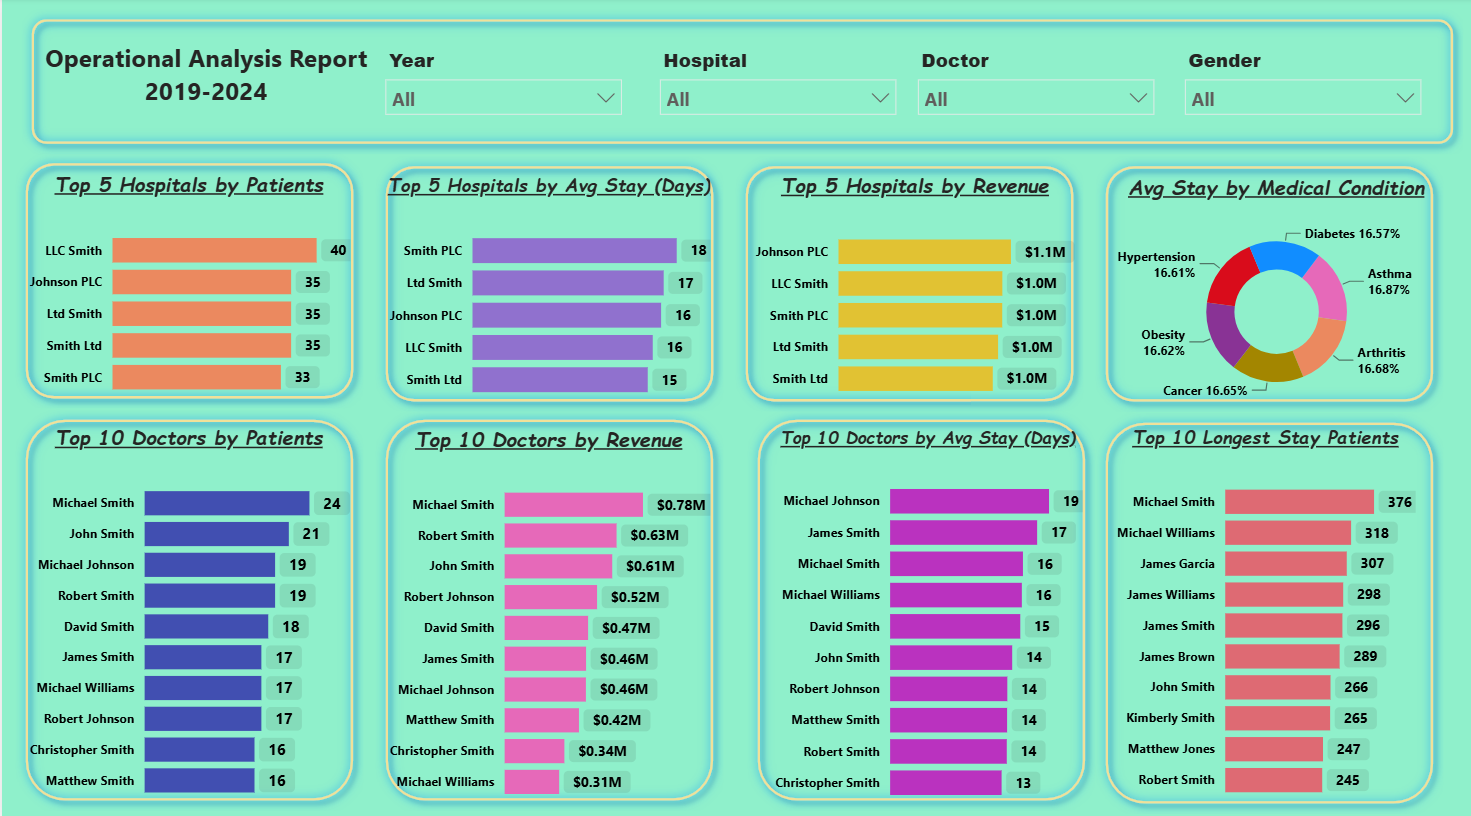

What the dashboard file says about the page in this screenshot:
{"tool":"powerbi","page":{"name":"Operational Analysis","canvas":[1280,720],"ordinal":3},"visuals":[{"type":"shape","box":[17.3,10.1,1256.9,126.6],"z":4000},{"type":"textbox","box":[31.6,33.1,293.4,77.7],"z":5000},{"type":"shape","box":[11.5,136.6,303.4,222.9],"z":6000},{"type":"shape","box":[325,138.1,303.4,222.9],"z":7000},{"type":"shape","box":[640,138.1,303.4,222.9],"z":8000},{"type":"shape","box":[953.4,138.5,303.2,223.1],"z":9000},{"type":"shape","box":[11.7,360.1,303.2,349.9],"z":10000},{"type":"shape","box":[325.1,360.1,303.2,349.9],"z":11000},{"type":"shape","box":[650.2,360.1,303.2,349.9],"z":12000},{"type":"shape","box":[953.4,361.5,303.2,349.9],"z":13000},{"type":"clusteredBarChart","title":"Top 5 Hospitals by Patients","fields":{"Y":["Measure.Total Patients"],"Category":["Cleaned_Dataset.Hospital"]},"box":[17.3,151,291.9,208.5],"z":14000},{"type":"clusteredBarChart","title":"Top 5 Hospitals by Avg Stay (Days)","fields":{"Category":["Cleaned_Dataset.Hospital"],"Y":["Measure.Avg Length of Stay"]},"box":[330.8,152.4,291.9,208.5],"z":15000},{"type":"clusteredBarChart","title":"Top 5 Hospitals by Revenue","fields":{"Category":["Cleaned_Dataset.Hospital"],"Y":["Measure.Total Revenue"]},"box":[650.2,151.6,291.9,208.5],"z":16000},{"type":"clusteredBarChart","title":"Top 10 Longest Stay Patients","fields":{"Category":["Cleaned_Dataset.Name"],"Y":["Sum(Cleaned_Dataset.Days in hospital)"]},"box":[965.1,373.2,272.6,336.8],"z":17000},{"type":"clusteredBarChart","title":"Top 10 Doctors by Patients","fields":{"Y":["Measure.Total Patients"],"Category":["Cleaned_Dataset.Doctor"]},"box":[17.3,371,291.6,338.2],"z":18000},{"type":"clusteredBarChart","title":"Top 10 Doctors by Revenue","fields":{"Category":["Cleaned_Dataset.Doctor"],"Y":["Measure.Total Revenue"]},"box":[330.8,372.5,291.6,338.2],"z":19000},{"type":"clusteredBarChart","title":"Top 10 Doctors by Avg Stay (Days)","fields":{"Category":["Cleaned_Dataset.Doctor"],"Y":["Measure.Avg Length of Stay"]},"box":[667.3,373.9,280.4,338],"z":20000},{"type":"donutChart","title":"Avg Stay by Medical Condition","fields":{"Y":["Measure.Avg Length of Stay"],"Category":["Cleaned_Dataset.Medical Condition"]},"box":[965.1,153.1,291.6,207],"z":21000},{"type":"slicer","fields":{"Values":["Cleaned_Dataset.Date of Admission.Variation.Date Hierarchy.Year"]},"box":[324,38.5,226,65.6],"z":22000},{"type":"slicer","fields":{"Values":["Cleaned_Dataset.Hospital"]},"box":[563.1,38.5,226,65.6],"z":23000},{"type":"slicer","fields":{"Values":["Cleaned_Dataset.Doctor"]},"box":[789.1,38.5,226,65.6],"z":24000},{"type":"slicer","fields":{"Values":["Cleaned_Dataset.Gender"]},"box":[1020.9,38.5,226,65.6],"z":25000}]}

Visuals, with their boxes in screenshot pixels (x1, y1, x2, y2), scaled from the page's 1280x720 canvas onto the 1471x816 screenshot:
shape: (x1=20, y1=11, x2=1464, y2=155)
textbox: (x1=36, y1=38, x2=373, y2=126)
shape: (x1=13, y1=155, x2=362, y2=407)
shape: (x1=373, y1=157, x2=722, y2=409)
shape: (x1=736, y1=157, x2=1084, y2=409)
shape: (x1=1096, y1=157, x2=1444, y2=410)
shape: (x1=13, y1=408, x2=362, y2=805)
shape: (x1=374, y1=408, x2=722, y2=805)
shape: (x1=747, y1=408, x2=1096, y2=805)
shape: (x1=1096, y1=410, x2=1444, y2=806)
"Top 5 Hospitals by Patients" clusteredBarChart: (x1=20, y1=171, x2=355, y2=407)
"Top 5 Hospitals by Avg Stay (Days)" clusteredBarChart: (x1=380, y1=173, x2=716, y2=409)
"Top 5 Hospitals by Revenue" clusteredBarChart: (x1=747, y1=172, x2=1083, y2=408)
"Top 10 Longest Stay Patients" clusteredBarChart: (x1=1109, y1=423, x2=1422, y2=805)
"Top 10 Doctors by Patients" clusteredBarChart: (x1=20, y1=420, x2=355, y2=804)
"Top 10 Doctors by Revenue" clusteredBarChart: (x1=380, y1=422, x2=715, y2=805)
"Top 10 Doctors by Avg Stay (Days)" clusteredBarChart: (x1=767, y1=424, x2=1089, y2=807)
"Avg Stay by Medical Condition" donutChart: (x1=1109, y1=174, x2=1444, y2=408)
slicer - Cleaned_Dataset.Date of Admission.Variation.Date Hierarchy.Year: (x1=372, y1=44, x2=632, y2=118)
slicer - Cleaned_Dataset.Hospital: (x1=647, y1=44, x2=907, y2=118)
slicer - Cleaned_Dataset.Doctor: (x1=907, y1=44, x2=1167, y2=118)
slicer - Cleaned_Dataset.Gender: (x1=1173, y1=44, x2=1433, y2=118)
